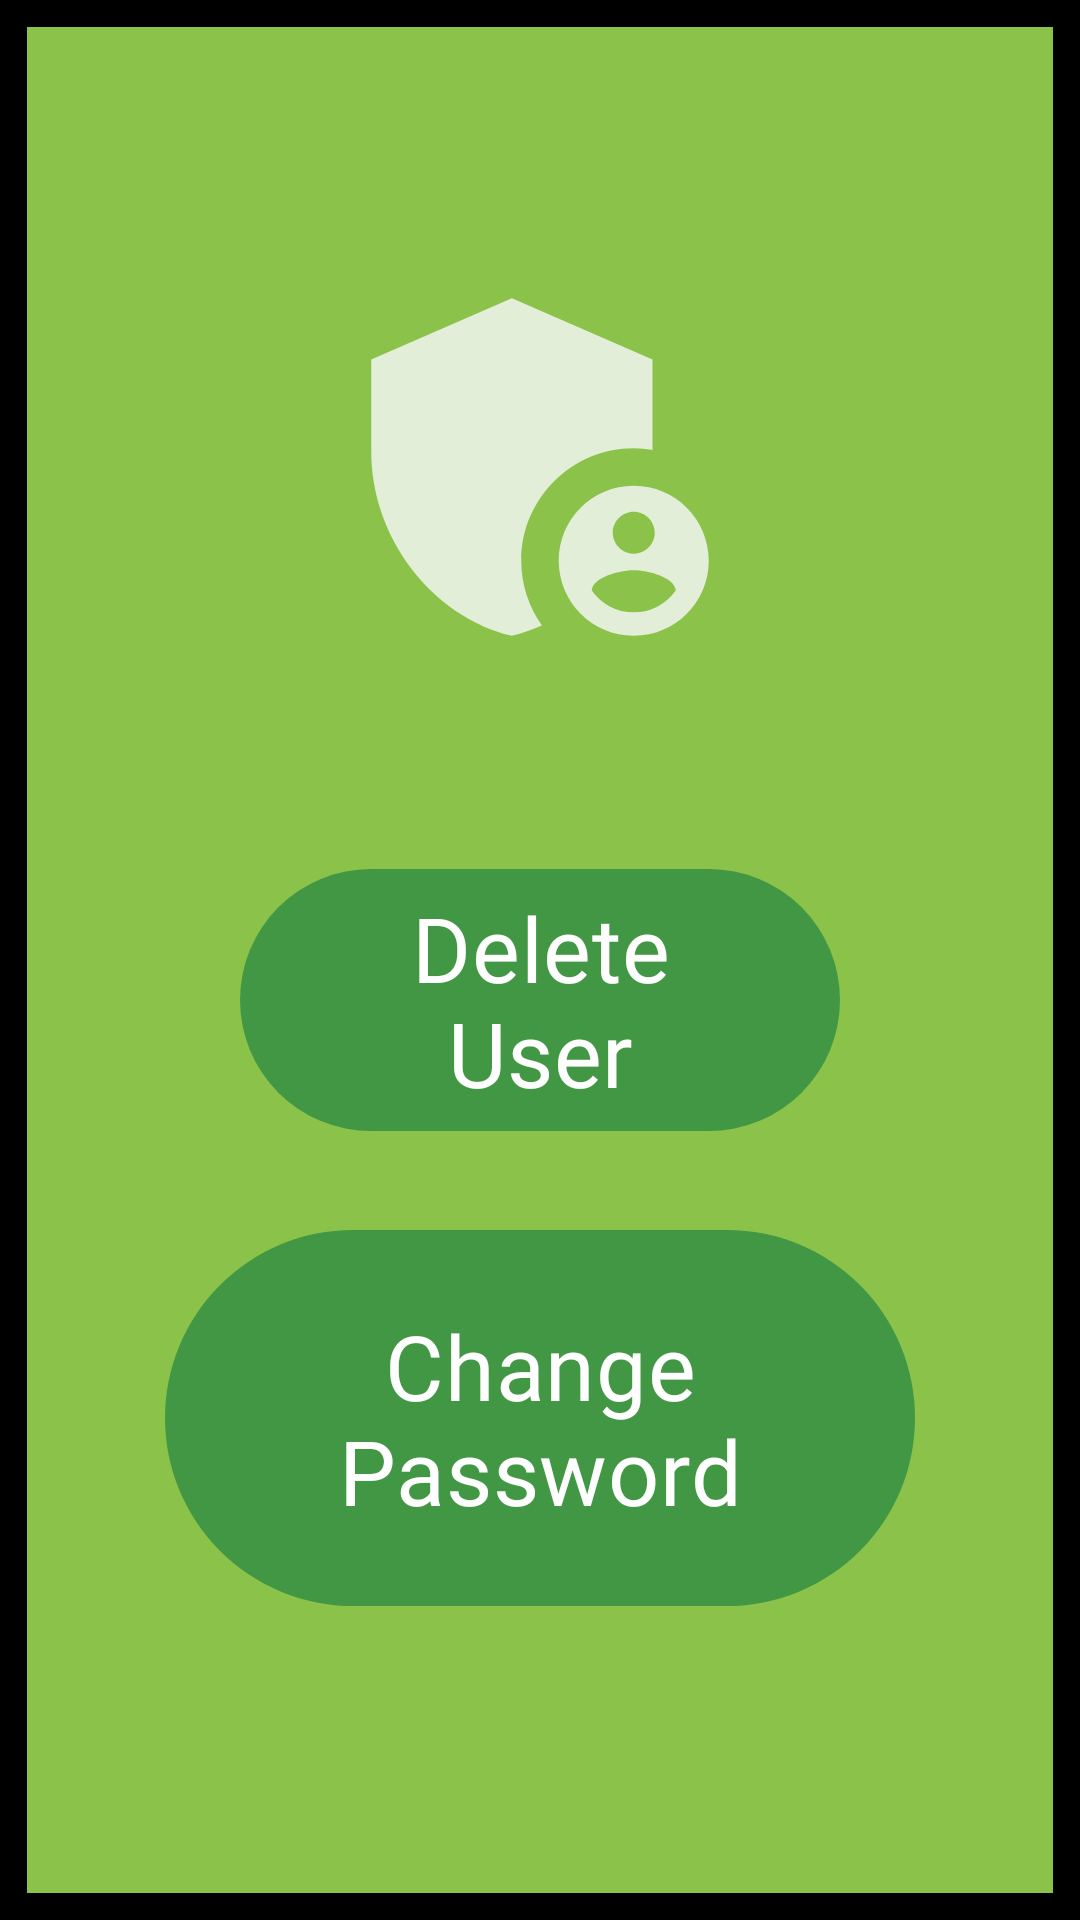

Point at icon controls on the screen. Image size 1080x1920, points as point (x, y).
admin panel settings: point (540, 467)
